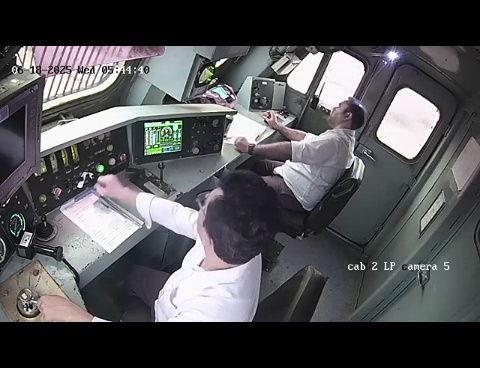brake_applied: (1, 254, 97, 322)
horn_inactive: (30, 209, 67, 249)
